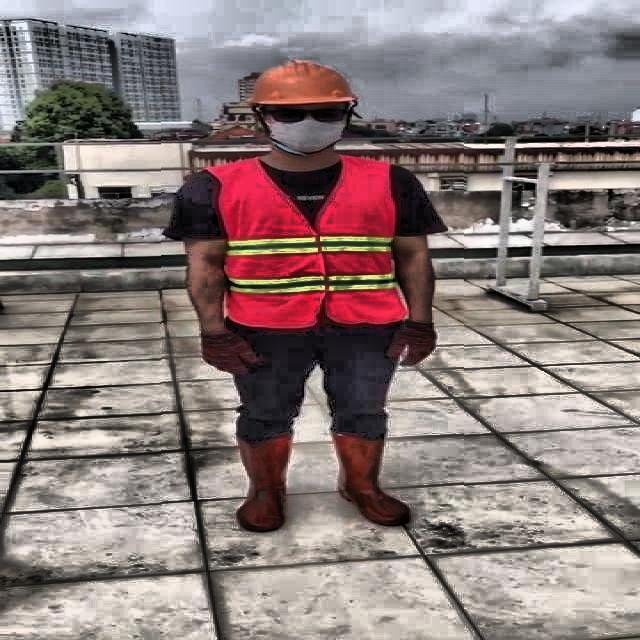safety_helmet: (161, 54, 464, 544), (242, 61, 361, 108)
safety_jacket: (210, 161, 403, 326)
